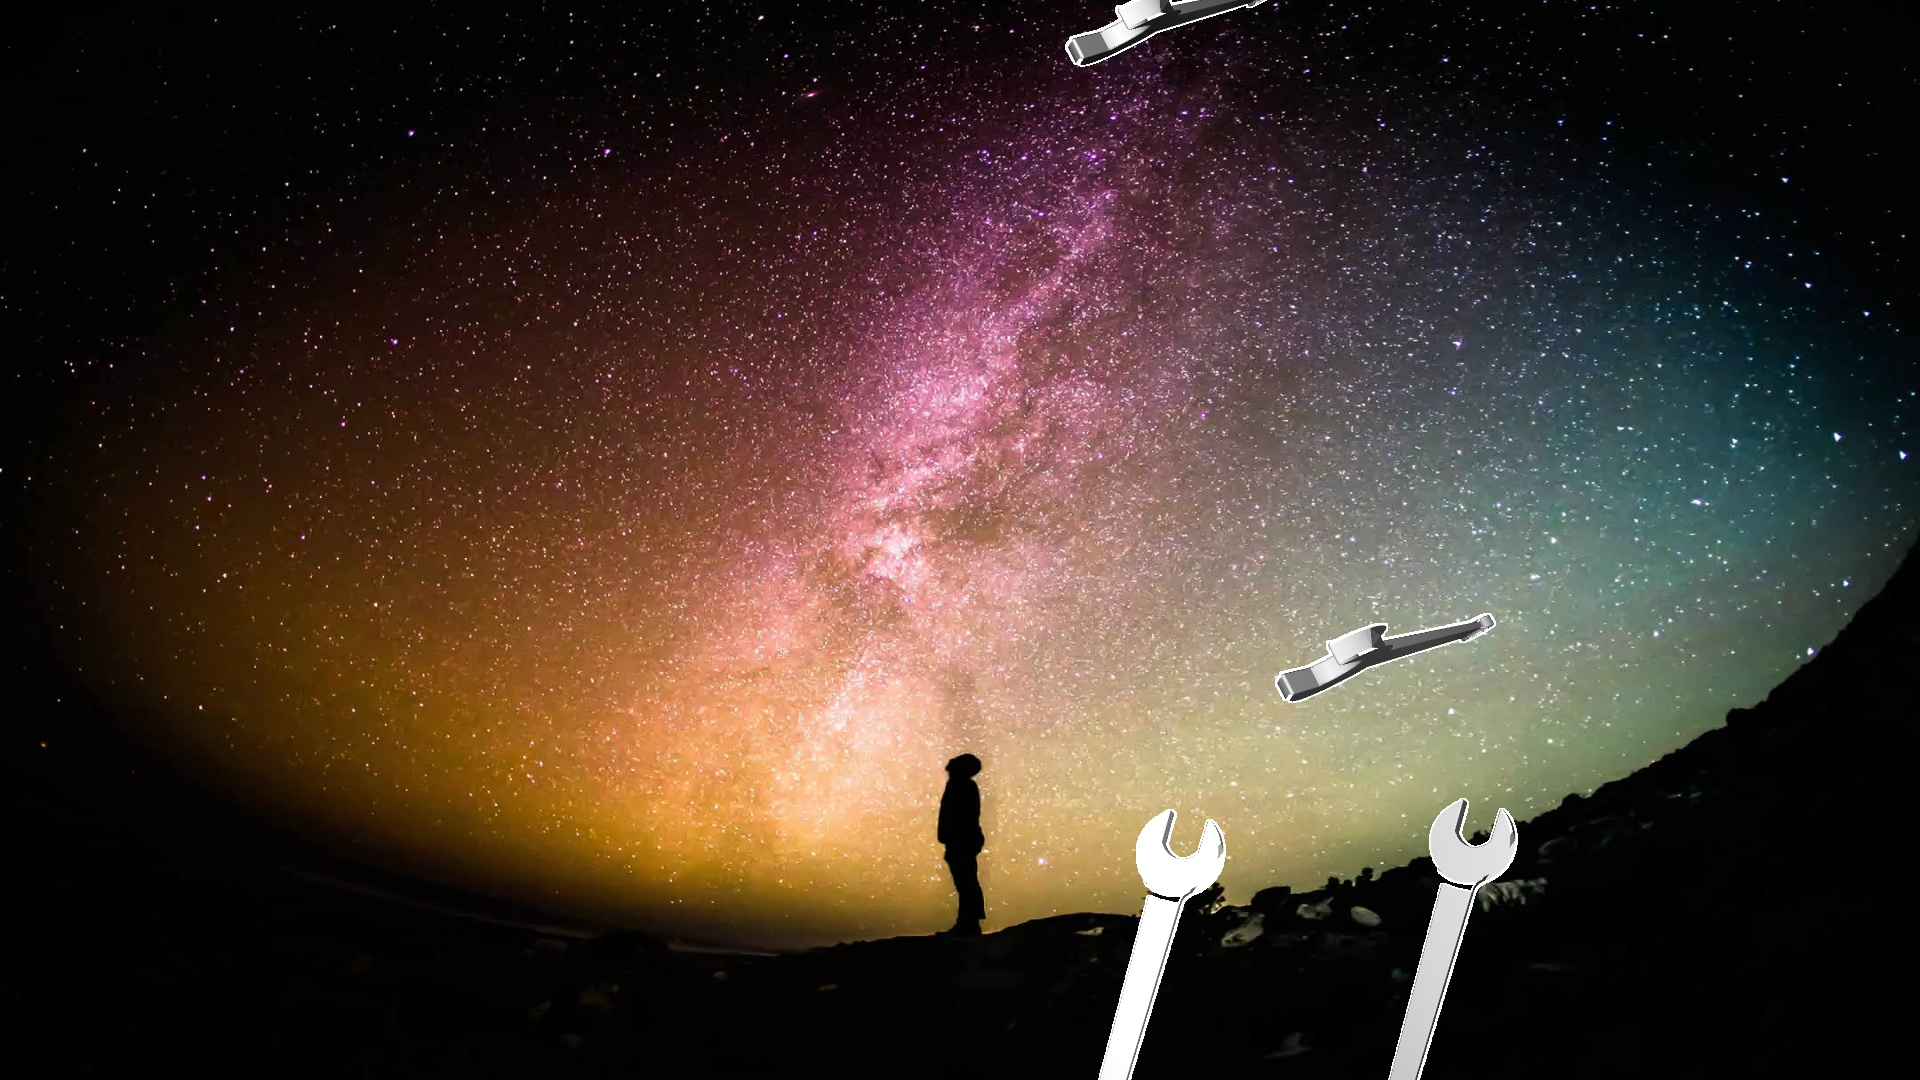Mixed Key: (1389, 798, 1516, 1079), (1098, 808, 1225, 1079), (1275, 613, 1495, 702), (1065, 0, 1266, 66)
